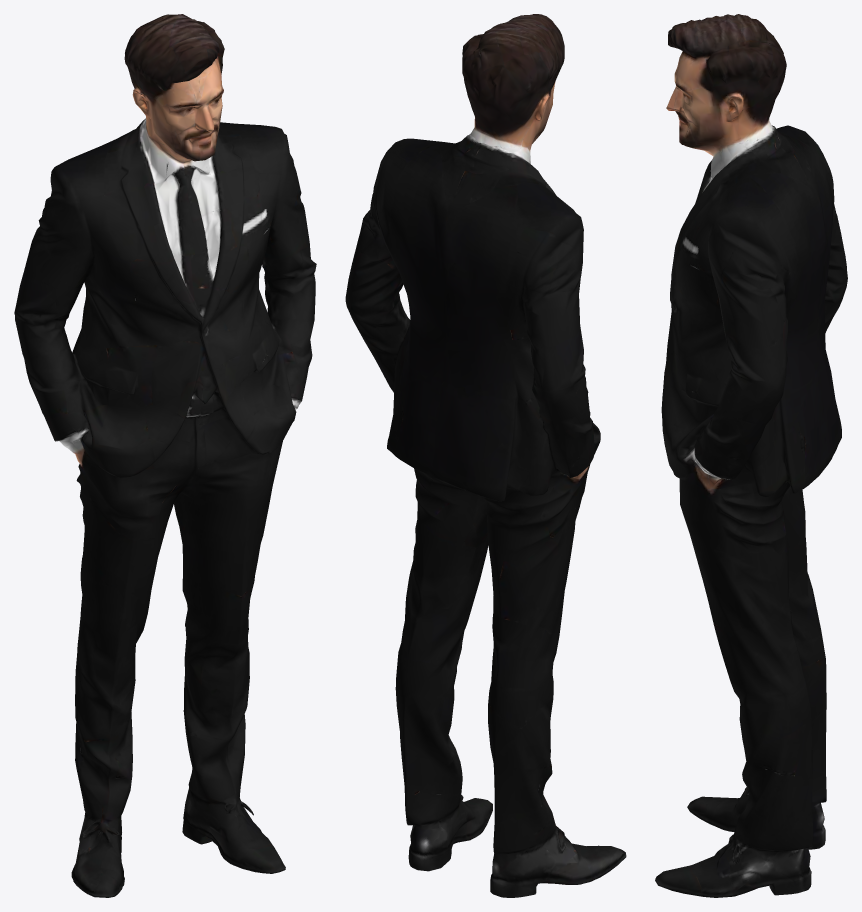
Rendered from midnight_elegance.glb.
3 views of the same model, side by side, from view 1: azimuth 30°, elevation 25°; view 2: azimuth 150°, elevation 25°; view 3: azimuth 270°, elevation 25° (orthographic). The views are drawn at different scales.
Size of the model in its own units: 0.6185 by 1.9 by 0.3959.
Materials: 1 (1 with a texture image).
